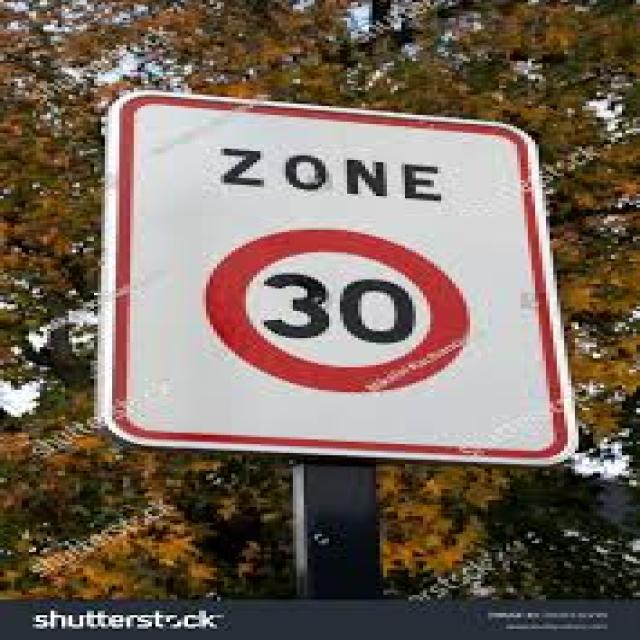Speed limit 30: (209, 231, 470, 398)
